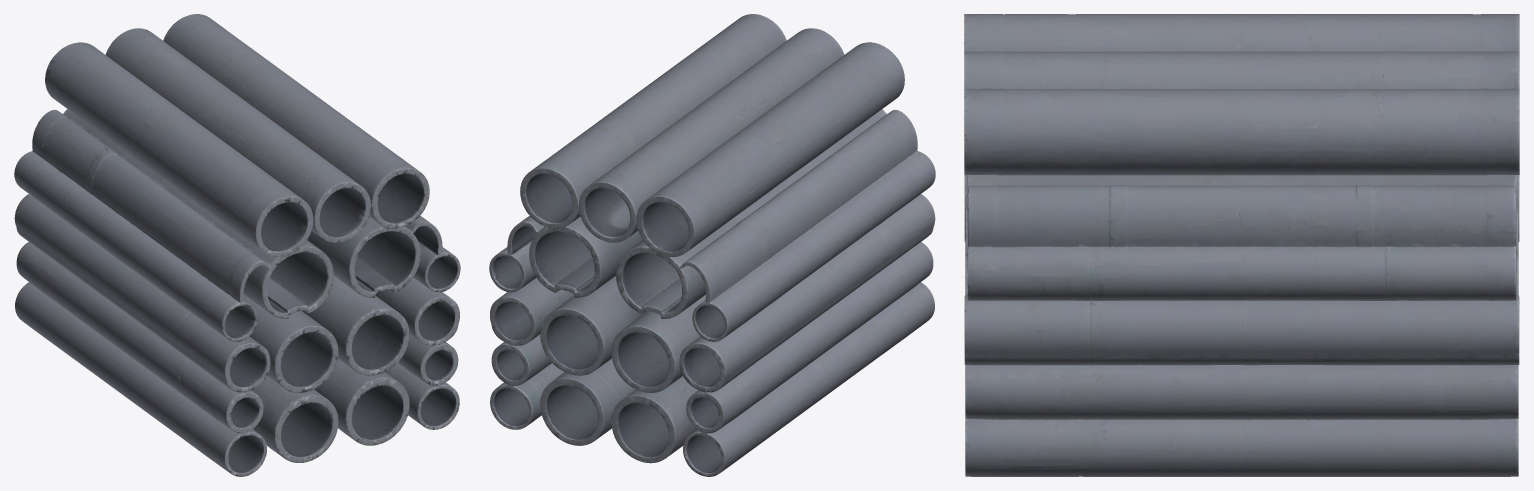
File: Meshy_AI_A_stack_of_grey_meta_0823163532_texture-optimized.glb
3 renders of one model, left to right at view 1: azimuth 30°, elevation 25°; view 2: azimuth 150°, elevation 25°; view 3: azimuth 270°, elevation 25°, orthographic. The views are drawn at different scales.
Visible parts, largest first — view 1: mesh_node; view 2: mesh_node; view 3: mesh_node.
Part boxes in pixels (x1,y1,x2,y2): mesh_node: (14, 14, 460, 476); mesh_node: (489, 14, 935, 476); mesh_node: (964, 14, 1519, 476).
Size of the model in its own units: 1.24 by 1.35 by 1.9.
1 material, 1 textured.
